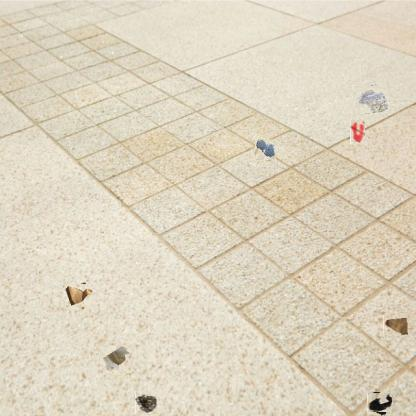dirty: (358, 83, 389, 114), (100, 344, 130, 374), (65, 282, 91, 309), (368, 391, 391, 414), (135, 392, 158, 414), (383, 315, 408, 335)
liquid: (255, 140, 276, 160), (350, 120, 365, 144)
